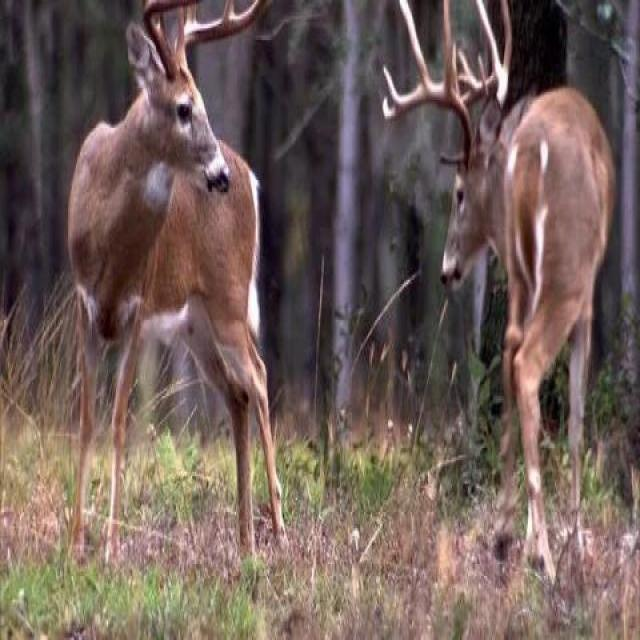deer: (80, 27, 372, 522), (396, 48, 640, 492)
